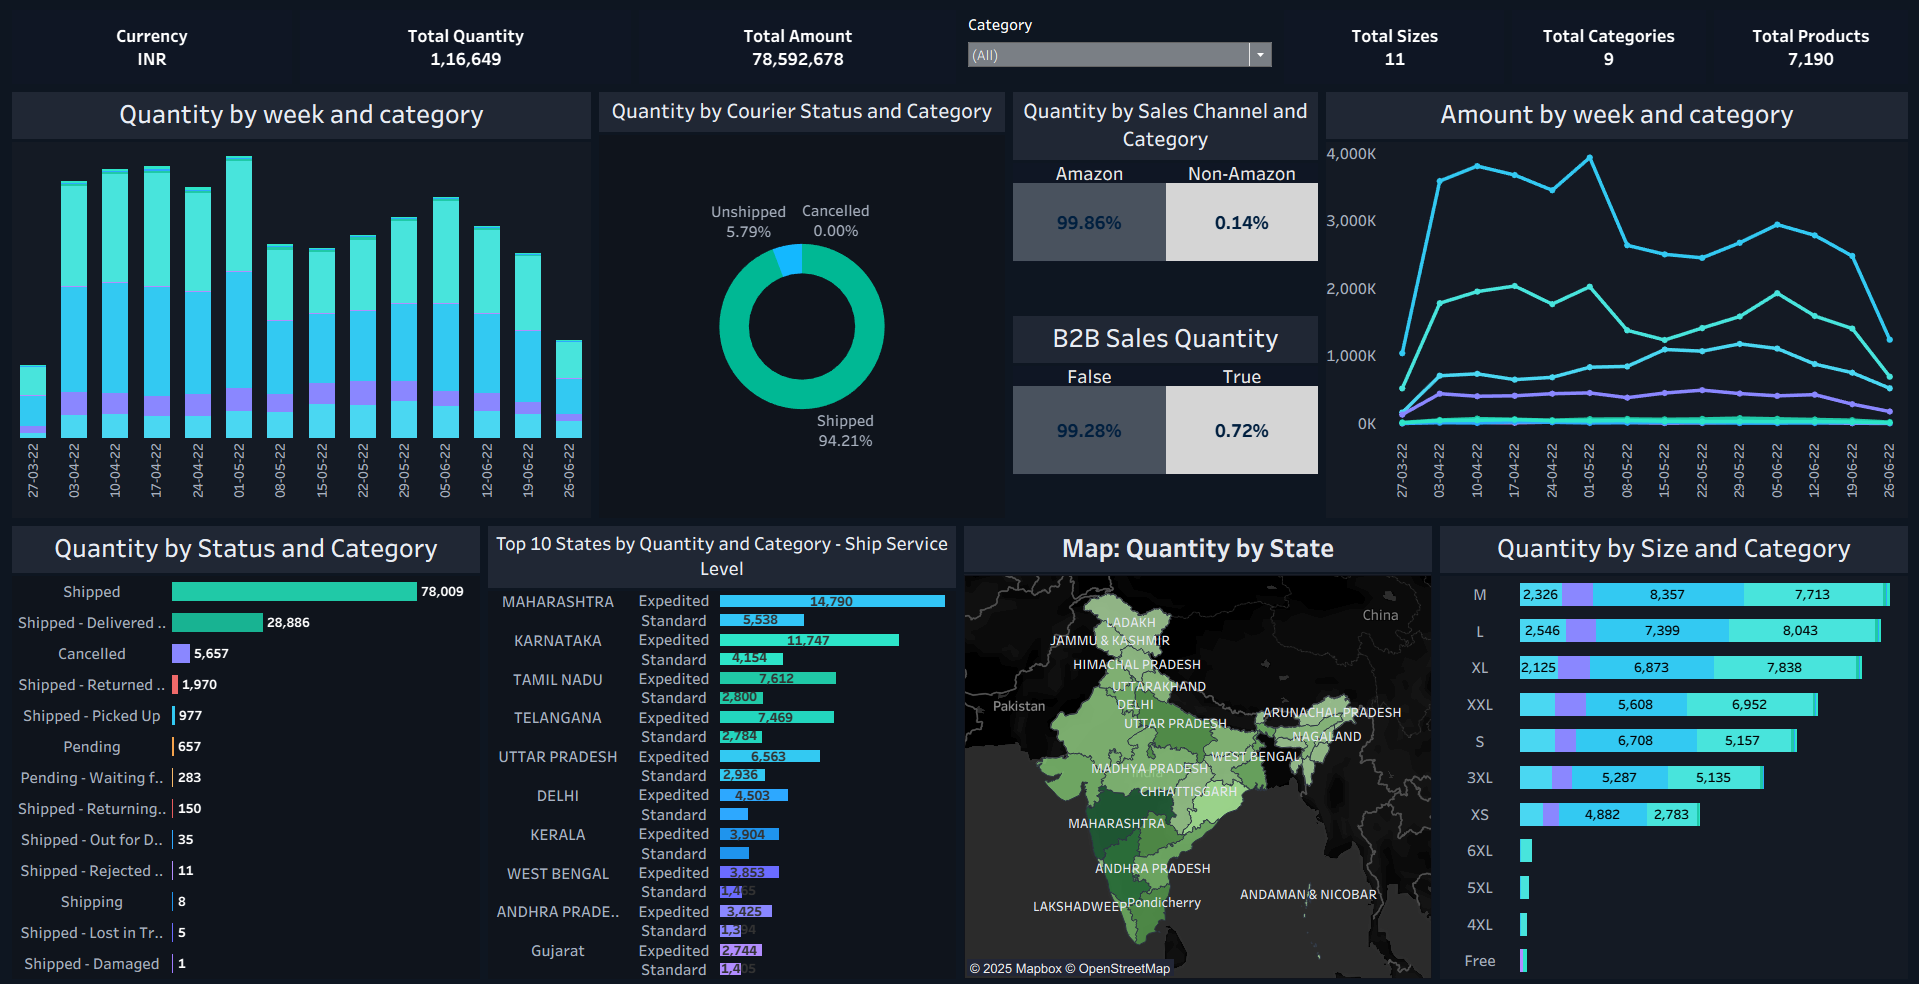

What the dashboard file says about the page in this screenshot:
{"tool":"tableau","page":{"name":"Dashboard 1","canvas":[1000,1000],"units":"permille","ordinal":0},"visuals":[{"type":"worksheet","title":"Currency","mark":"Automatic","box":[4.8,10,150.1,82.3]},{"type":"worksheet","title":"Total Quantity","mark":"Automatic","box":[154.9,10,176.2,82.3]},{"type":"worksheet","title":"Total Amount","mark":"Automatic","box":[331.1,10,168.9,82.3]},{"type":"filter","title":"Map: Quantity by State","param":"[federated.0u7v2pj0wo3r3k1e9vkv81fn16jn].[none:Category:nk]","box":[500,10,166.2,82.3]},{"type":"worksheet","title":"Total Sizes","mark":"Automatic","box":[666.2,10,118.9,82.3]},{"type":"worksheet","title":"Total Categories","mark":"Automatic","box":[785.1,10,105,82.3]},{"type":"worksheet","title":"Total Products","mark":"Automatic","box":[890.1,10,105,82.3]},{"type":"worksheet","title":"Quantity by week and category","mark":"Bar","rows":["Qty"],"cols":["Date"],"box":[4.8,92.3,305.3,435.5]},{"type":"worksheet","title":"Quantity by Courier Status and Category","mark":"Pie","rows":["Calculation_577023713737887746","Calculation_577023713737895940"],"box":[310.2,92.3,215.5,435.5]},{"type":"worksheet","title":"Quantity by Sales Channel and Category","mark":"Square","cols":["Sales Channel"],"box":[525.6,92.3,162.9,224.3]},{"type":"worksheet","title":"Amount by week and category","mark":"Line","rows":["Amount"],"cols":["Date"],"box":[688.6,92.3,306.6,435.5]},{"type":"worksheet","title":"B2B Sales Quantity","mark":"Square","cols":["B2B"],"box":[525.6,316.7,162.9,211.1]},{"type":"worksheet","title":"Quantity by Status and Category","mark":"Bar","rows":["Status"],"cols":["Qty"],"box":[4.8,527.8,247.5,462.2]},{"type":"worksheet","title":"Top 10 States by Quantity and Category - Ship Service Level","mark":"Bar","rows":["ship-state","ship-service-level"],"cols":["Qty"],"box":[252.4,527.8,247.6,462.2]},{"type":"worksheet","title":"Map: Quantity by State","mark":"Automatic","box":[500,527.8,247.5,462.2]},{"type":"worksheet","title":"Quantity by Size and Category","mark":"Bar","rows":["Size"],"cols":["Qty"],"box":[747.5,527.8,247.6,462.2]}]}

Visuals, with their boxes on the dashboard's canvas, which has no fixed pixel size, in thousandths of its width and height (x1, y1, x2, y2). These are canvas units, not pixel positions in the 1919x984 screenshot, which may show the page scaled, cropped or inside an application window:
"Currency" worksheet: detection(5, 10, 155, 92)
"Total Quantity" worksheet: detection(155, 10, 331, 92)
"Total Amount" worksheet: detection(331, 10, 500, 92)
"Map: Quantity by State" filter: detection(500, 10, 666, 92)
"Total Sizes" worksheet: detection(666, 10, 785, 92)
"Total Categories" worksheet: detection(785, 10, 890, 92)
"Total Products" worksheet: detection(890, 10, 995, 92)
"Quantity by week and category" worksheet (Bar marks): detection(5, 92, 310, 528)
"Quantity by Courier Status and Category" worksheet (Pie marks): detection(310, 92, 526, 528)
"Quantity by Sales Channel and Category" worksheet (Square marks): detection(526, 92, 688, 317)
"Amount by week and category" worksheet (Line marks): detection(689, 92, 995, 528)
"B2B Sales Quantity" worksheet (Square marks): detection(526, 317, 688, 528)
"Quantity by Status and Category" worksheet (Bar marks): detection(5, 528, 252, 990)
"Top 10 States by Quantity and Category - Ship Service Level" worksheet (Bar marks): detection(252, 528, 500, 990)
"Map: Quantity by State" worksheet: detection(500, 528, 748, 990)
"Quantity by Size and Category" worksheet (Bar marks): detection(748, 528, 995, 990)
